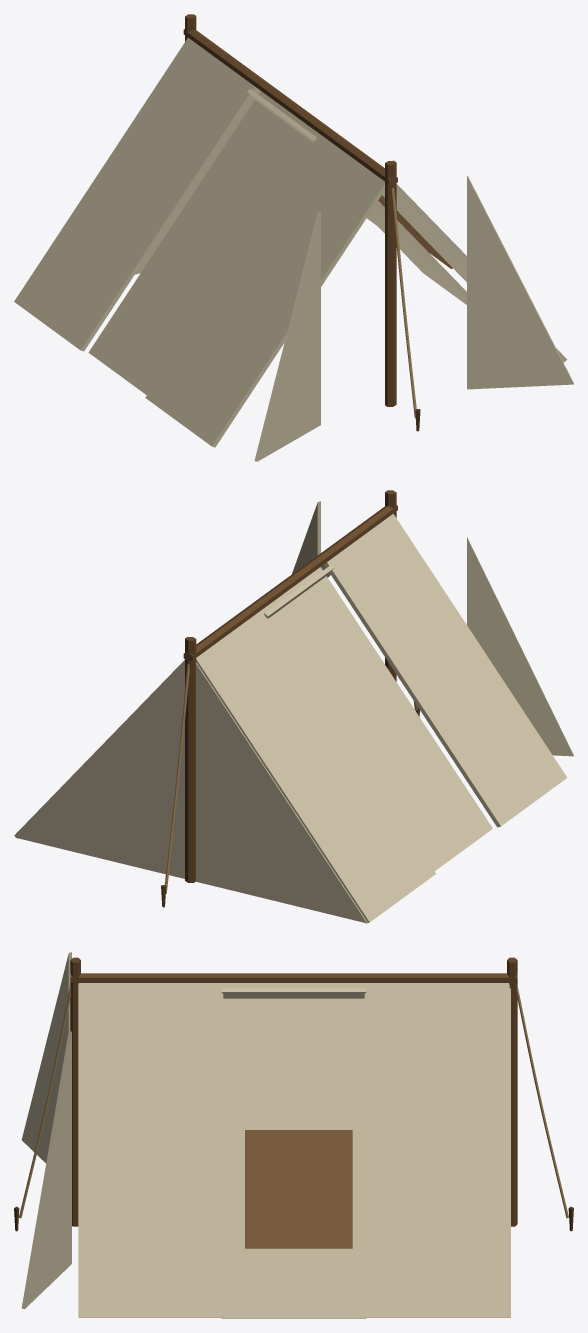
Rendered from tent.glb.
The picture shows the model from 3 angles, top to bottom: view 1: azimuth 30°, elevation 25°; view 2: azimuth 150°, elevation 25°; view 3: azimuth 270°, elevation 25°; orthographic projection. The views are drawn at different scales.
Parts seen in each view (by area): view 1: Body_Main, Body_Wood, Body_Rope; view 2: Body_Main, Body_Wood, Body_Rope; view 3: Body_Main, Body_Second, Body_Wood, Body_Rope.
Boxes of the visible parts, x1,y1,x2,y2 form: Body_Main: [14, 37, 573, 461]; Body_Wood: [183, 14, 397, 406]; Body_Rope: [391, 187, 416, 417]; Body_Main: [14, 501, 573, 923]; Body_Wood: [183, 490, 397, 882]; Body_Rope: [164, 663, 417, 893]; Body_Main: [21, 952, 510, 1318]; Body_Second: [245, 1130, 352, 1248]; Body_Wood: [70, 957, 517, 1226]; Body_Rope: [19, 985, 568, 1218].
Size of the model in its own units: 2.4 by 1.6 by 3.
